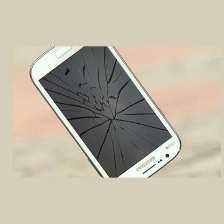phone: (25, 23, 186, 198)
